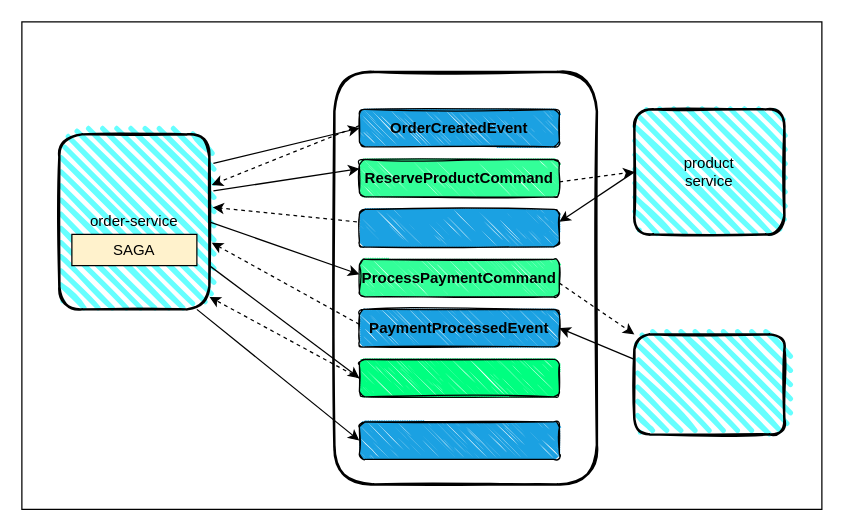
This 844x531 diagram has some shape labels left out. The box of each missing label's shape, as (x1, y1, x2, y2) in pixels:
ApproveOrderCommand: (358, 358, 559, 397)
orderApprovedEvent: (358, 421, 559, 459)
payment service: (632, 332, 785, 435)
ProductReservedEvent: (358, 208, 559, 247)
